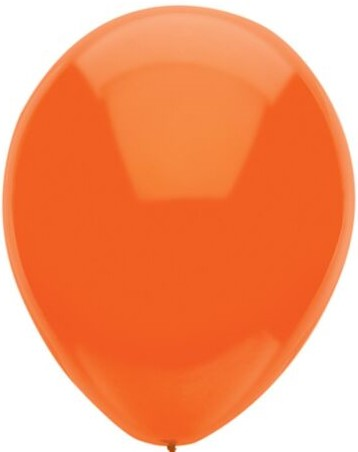Balloon: (3, 5, 354, 444)
